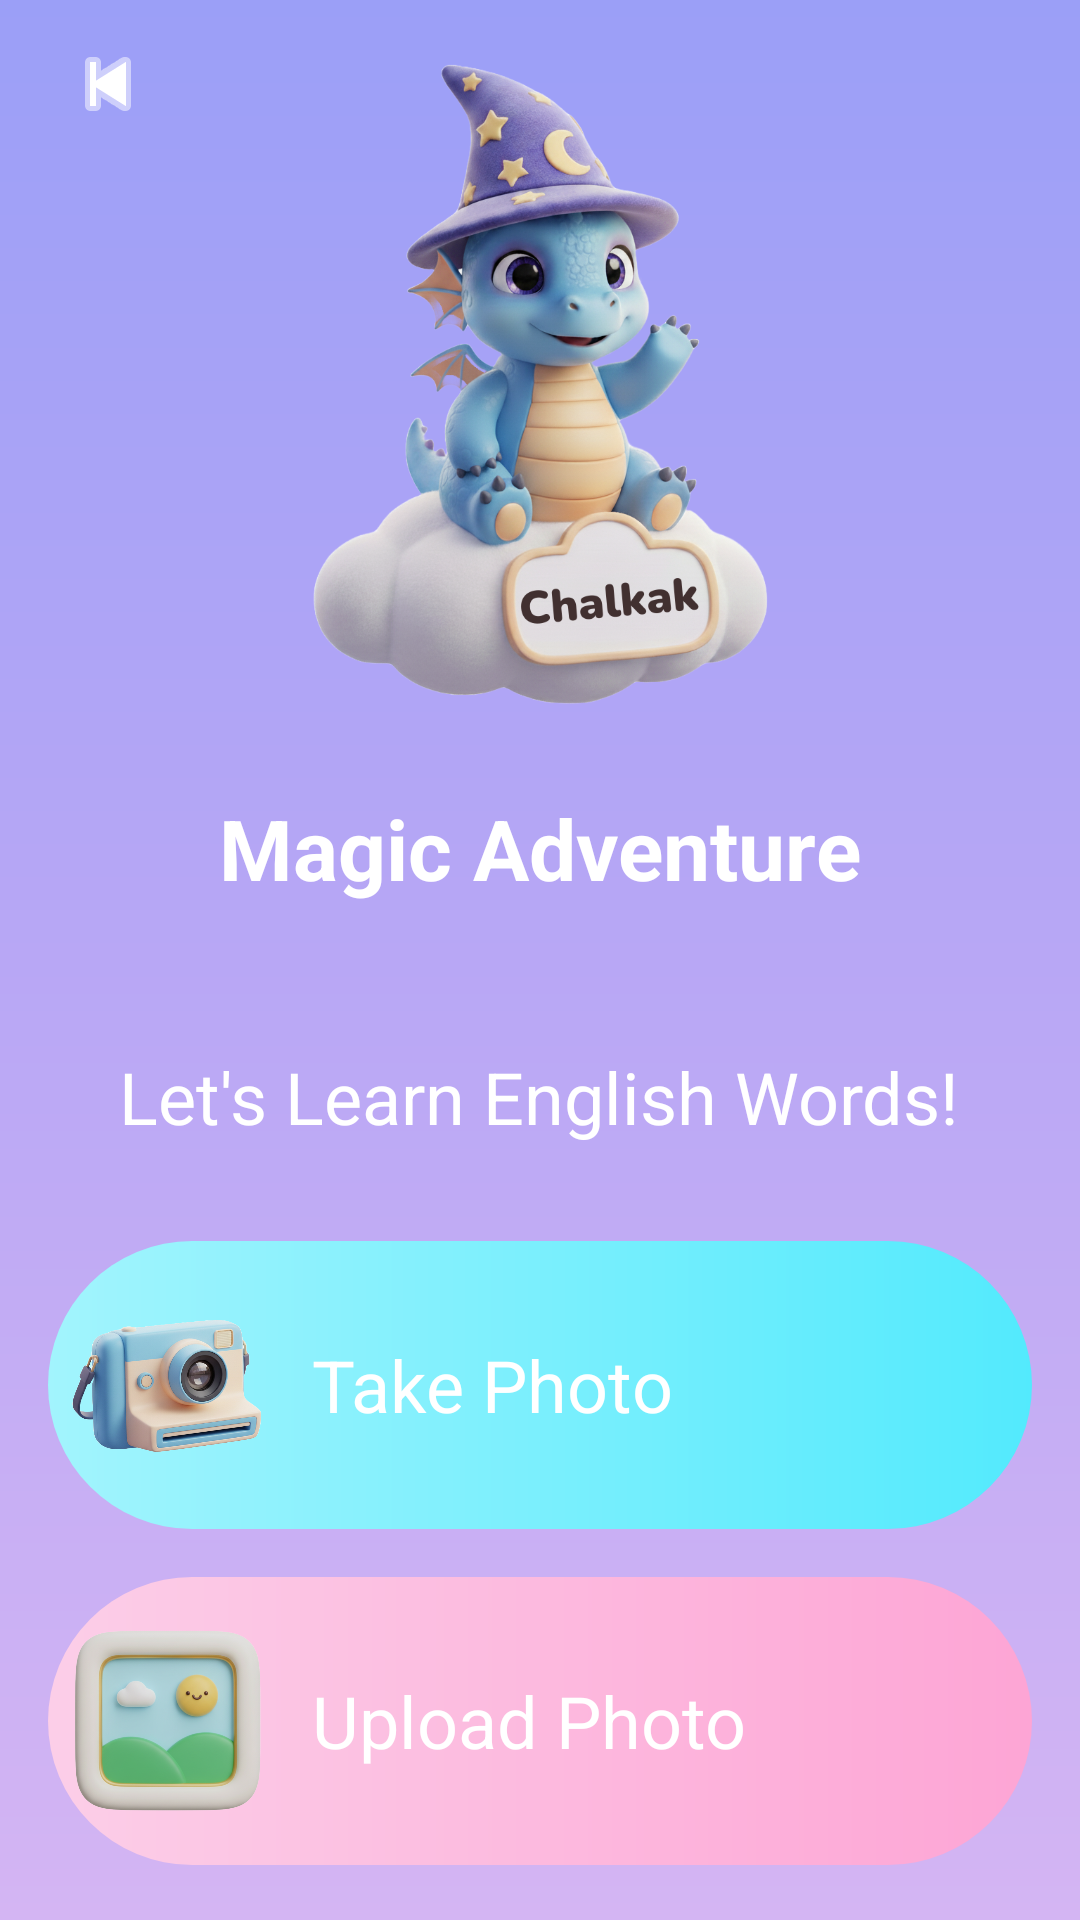

Locate icon controls on the screen. Image size 1080 x 1920, boxes as (x1, y1, x2, y2).
Back: (85, 57, 131, 111)
